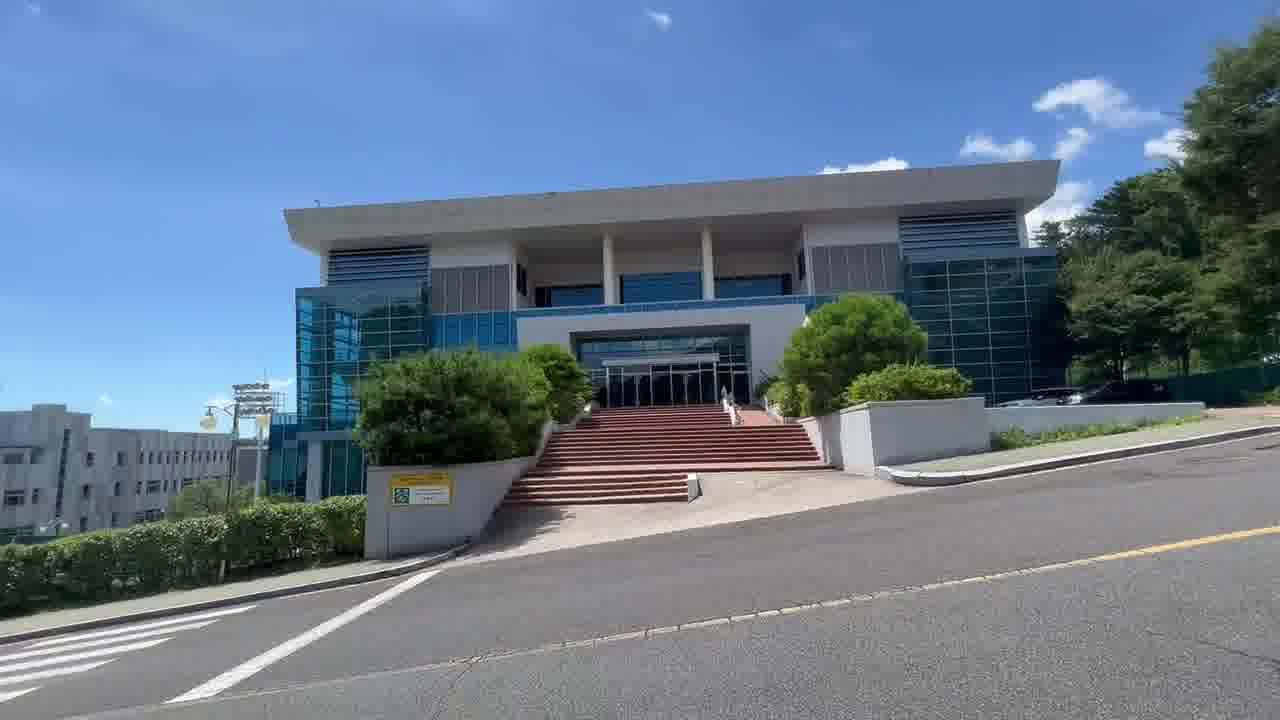building: (271, 150, 1050, 396)
